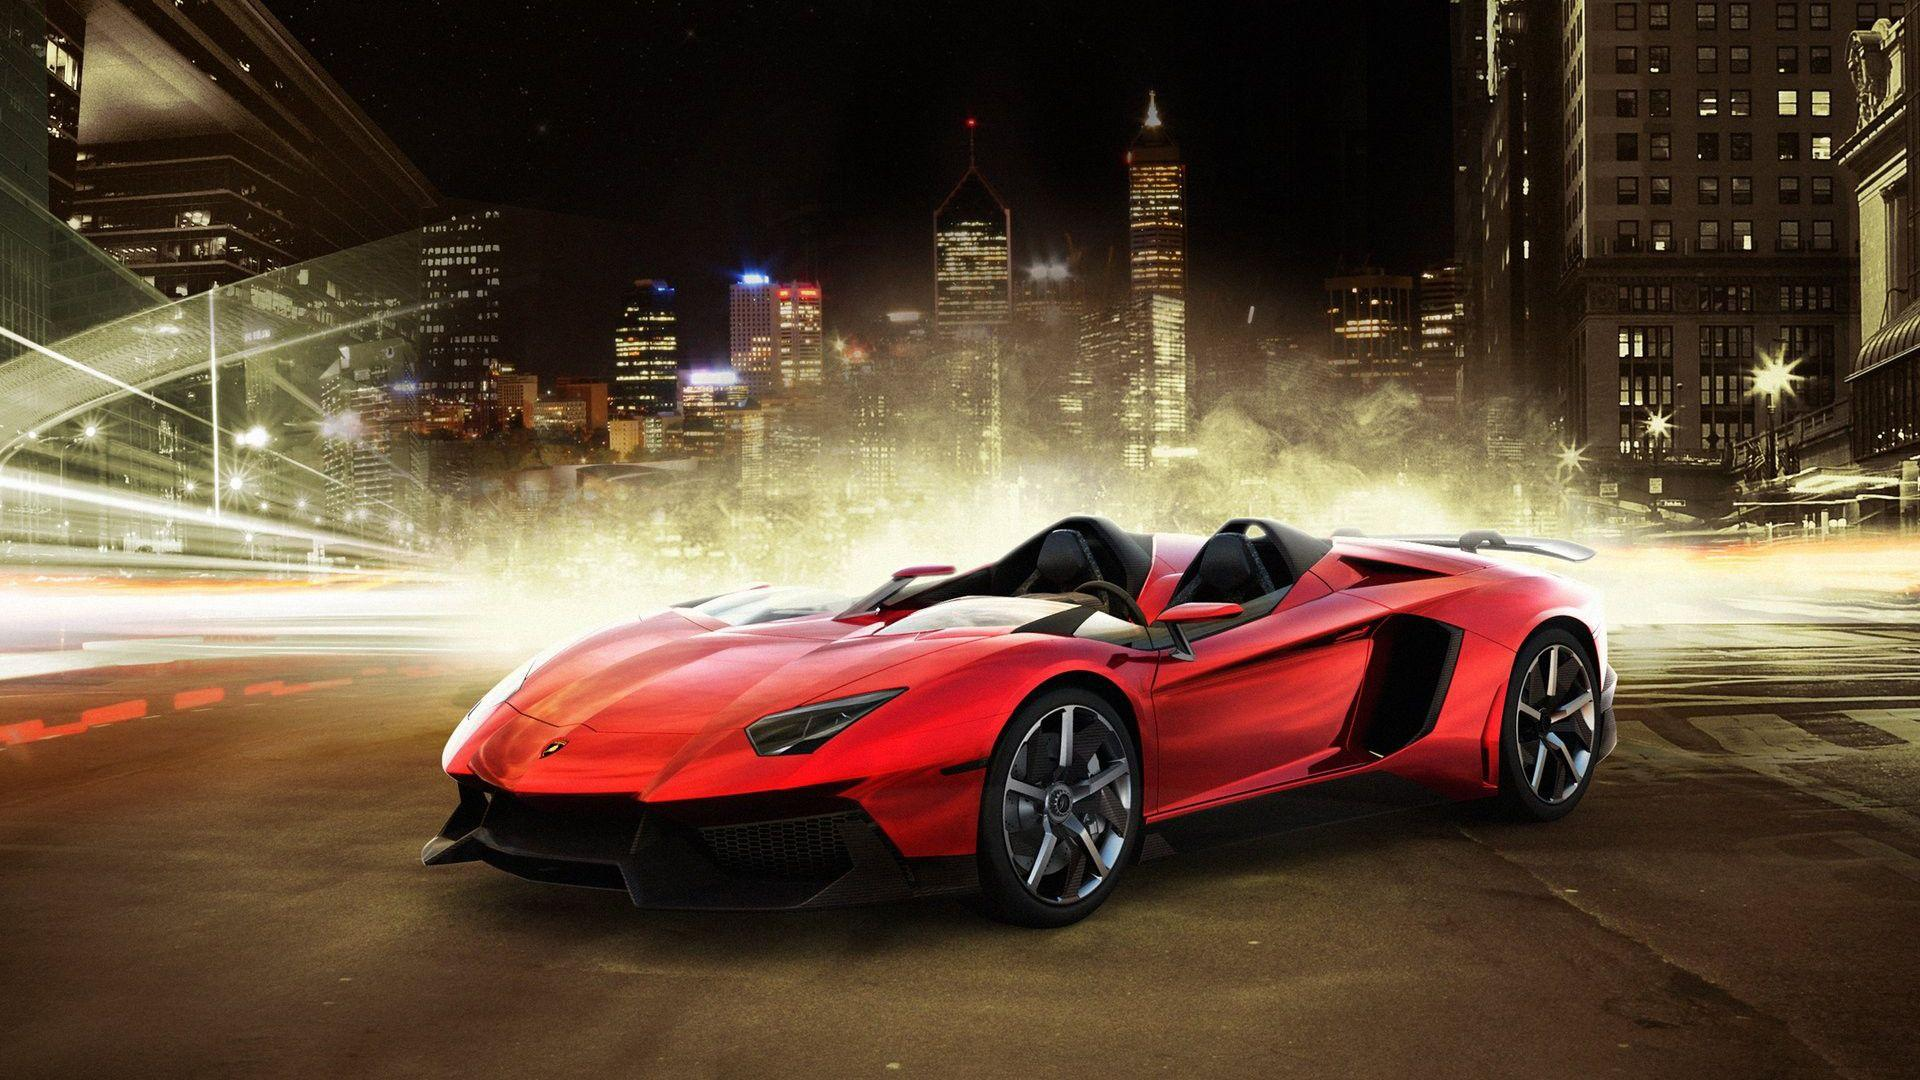small: (419, 510, 1621, 928)
